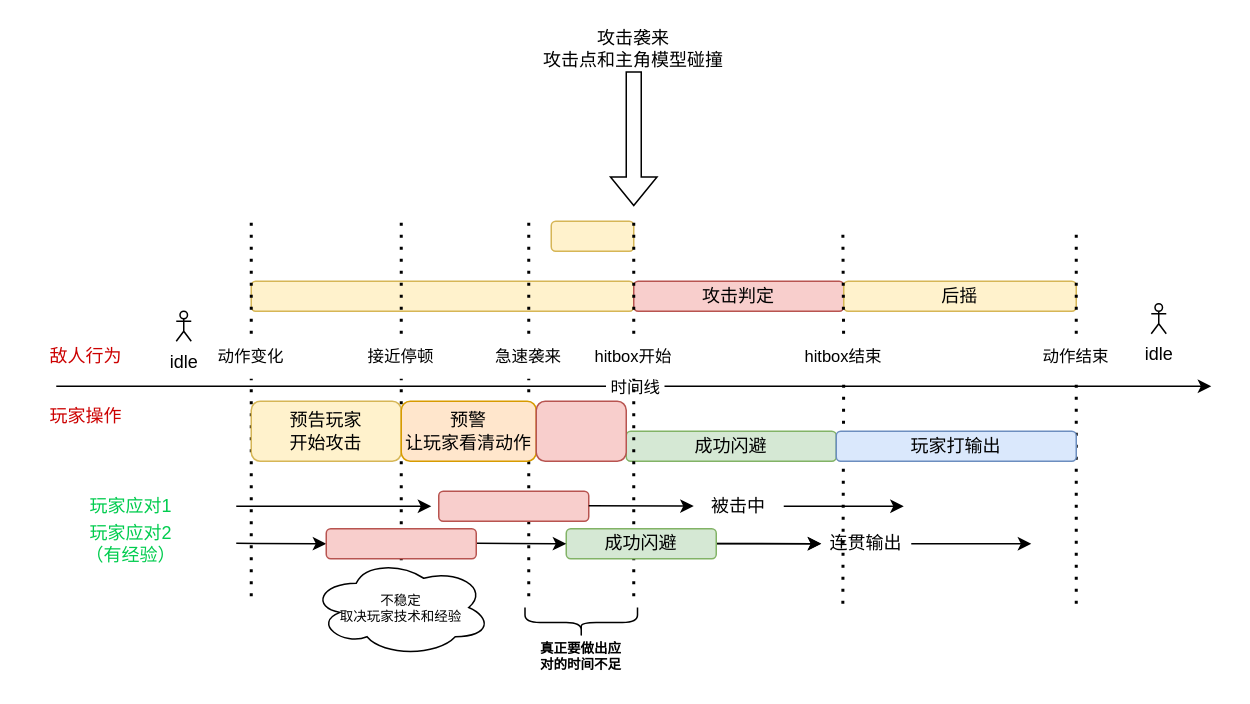
Image size: 1250x704. Some labels were removed from this diagram. The box of each missing label's shape, as (x1, y1, x2, y2) in pixels:
做出反应 目押: (535, 400, 626, 461)
前摇: (250, 280, 634, 311)
等待n秒: (325, 527, 476, 559)
过早闪避: (437, 490, 589, 521)
预判: (550, 220, 634, 251)
